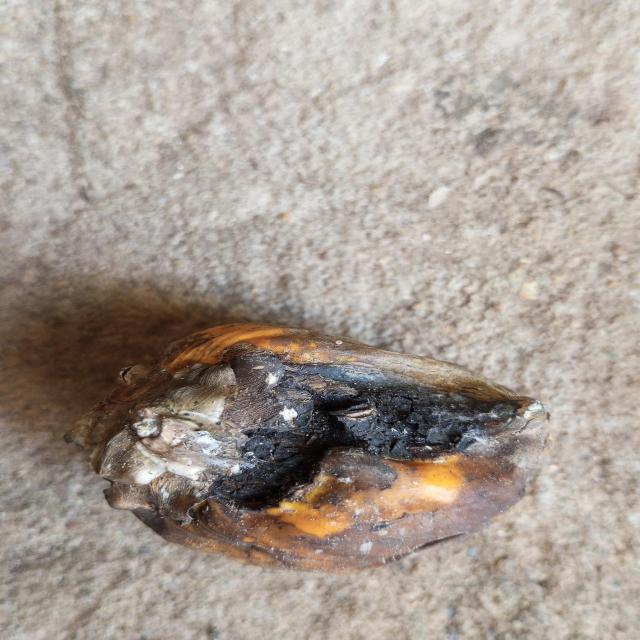damaged: (66, 324, 549, 572)
